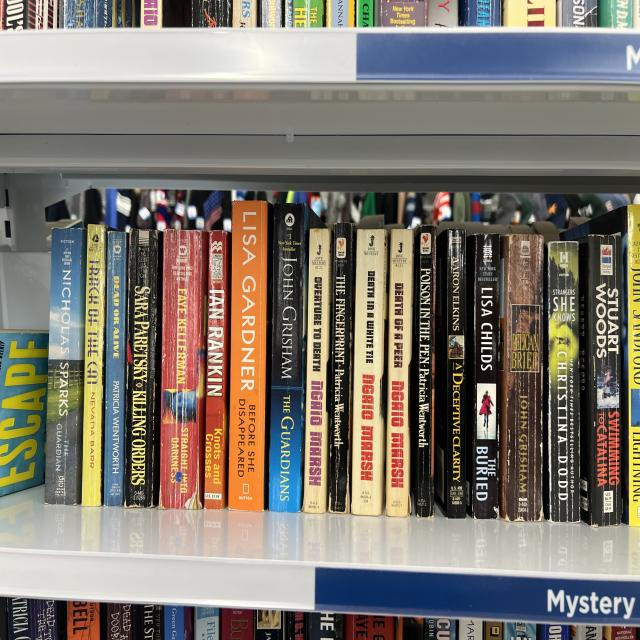book: (158, 230, 209, 509), (228, 201, 273, 511), (498, 235, 543, 520), (579, 236, 622, 526), (269, 204, 308, 512), (45, 228, 86, 505), (125, 229, 163, 507), (351, 230, 388, 515), (465, 234, 500, 518), (544, 242, 579, 522), (435, 229, 466, 517), (326, 223, 356, 513), (385, 230, 414, 516), (304, 229, 332, 513), (204, 231, 232, 508), (410, 226, 435, 517), (82, 225, 107, 506), (103, 232, 128, 506), (623, 205, 639, 526)
